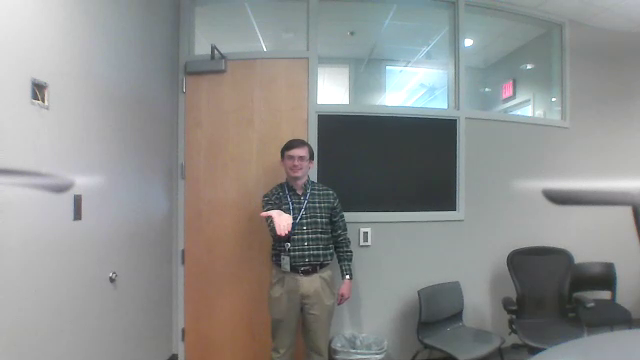land: (253, 203, 296, 240)
